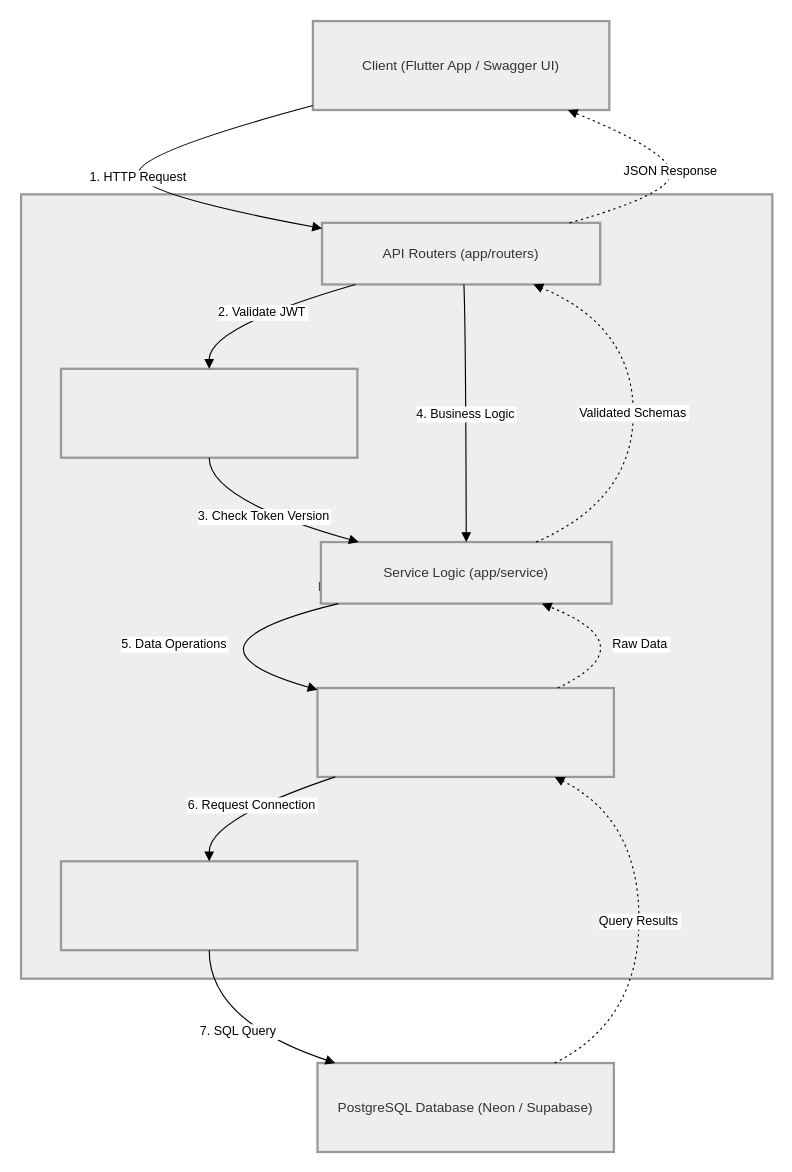
Image size: 792x1172. Some labels were removed from this diagram. Here are the shapes that lost their labels. From the top down, the centre of each, then its label:
the point at 208,412: Auth Middleware (protect_route.py)
the point at 465,731: Data Repository (app/repository)
the point at 208,905: Connection Pool (app/core/database.py)
